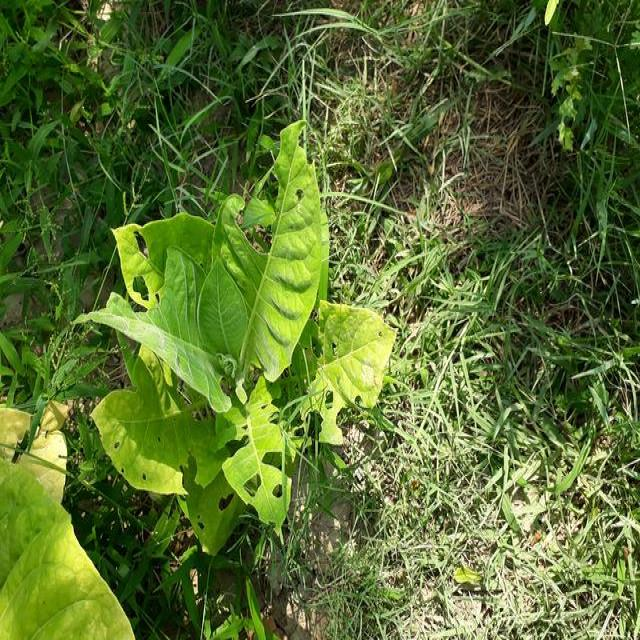crop: (103, 143, 387, 526), (0, 402, 126, 638)
